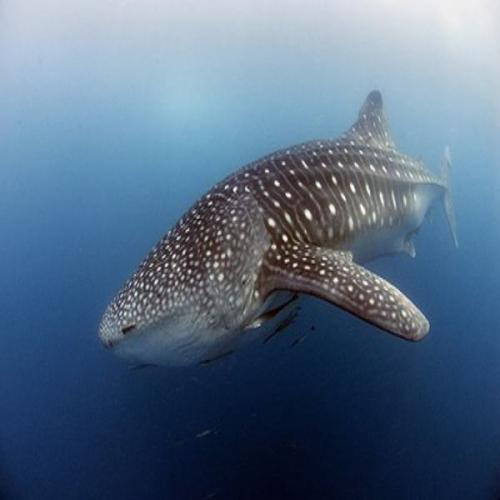shark-endangered: (98, 92, 458, 369)
